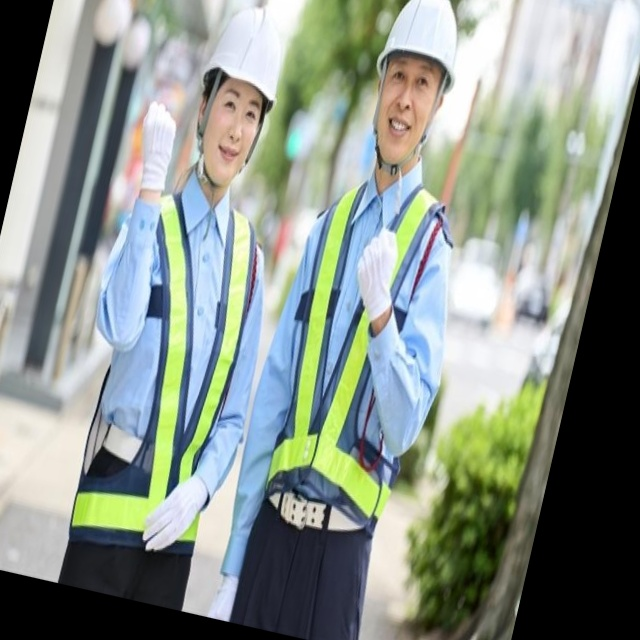Con_Casco: (355, 0, 474, 175), (184, 0, 295, 181)
Con_Chaleco: (67, 177, 270, 556), (259, 165, 455, 528)
